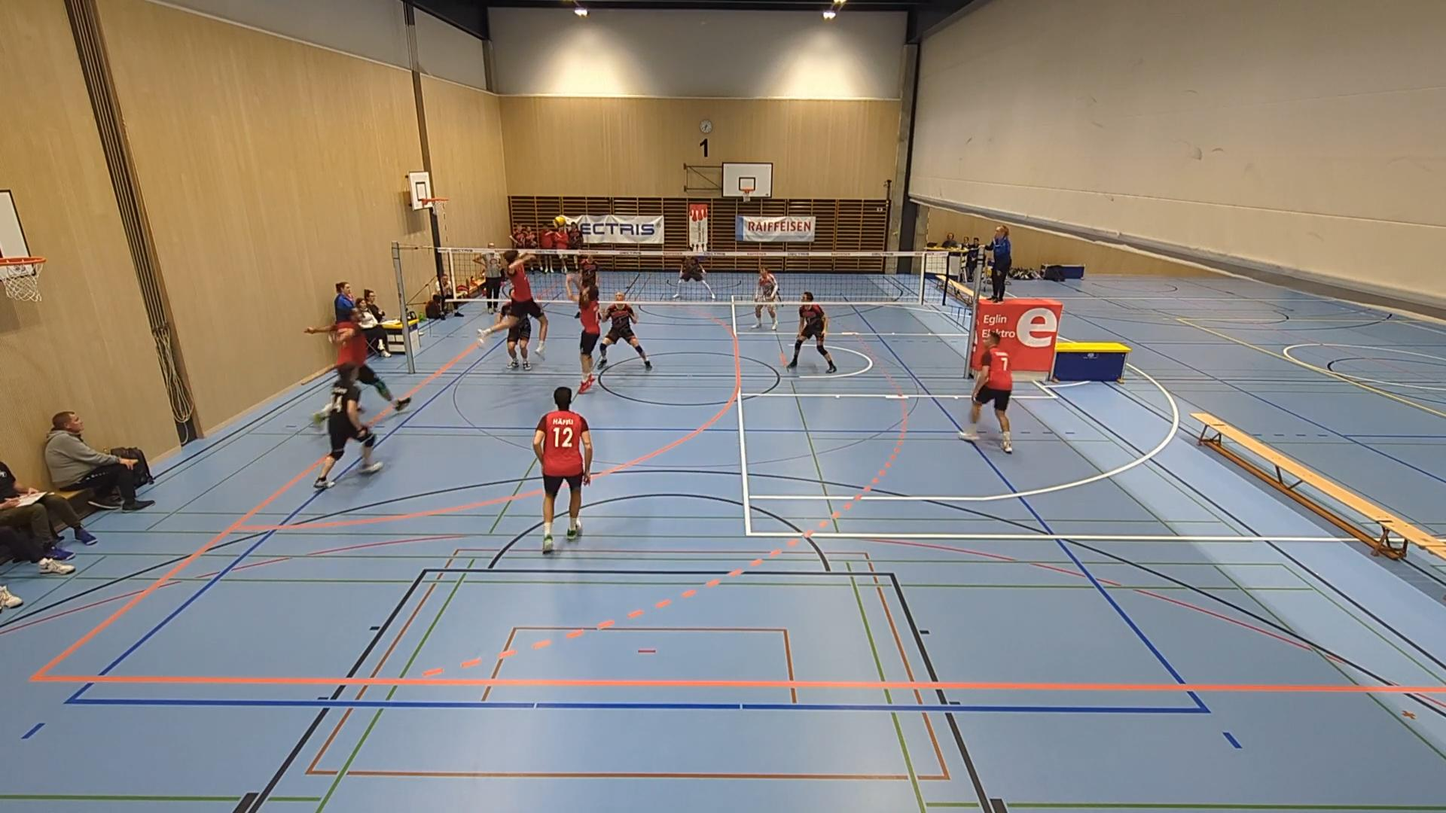Attack: (493, 241, 555, 368)
Player: (305, 308, 410, 410), (533, 387, 592, 553), (314, 362, 381, 489), (959, 331, 1011, 452), (598, 291, 651, 368), (787, 291, 836, 373), (673, 255, 715, 298), (754, 262, 779, 329), (505, 319, 530, 370), (578, 254, 599, 287)
Set: (566, 274, 606, 397)
ball: (555, 214, 568, 224)
